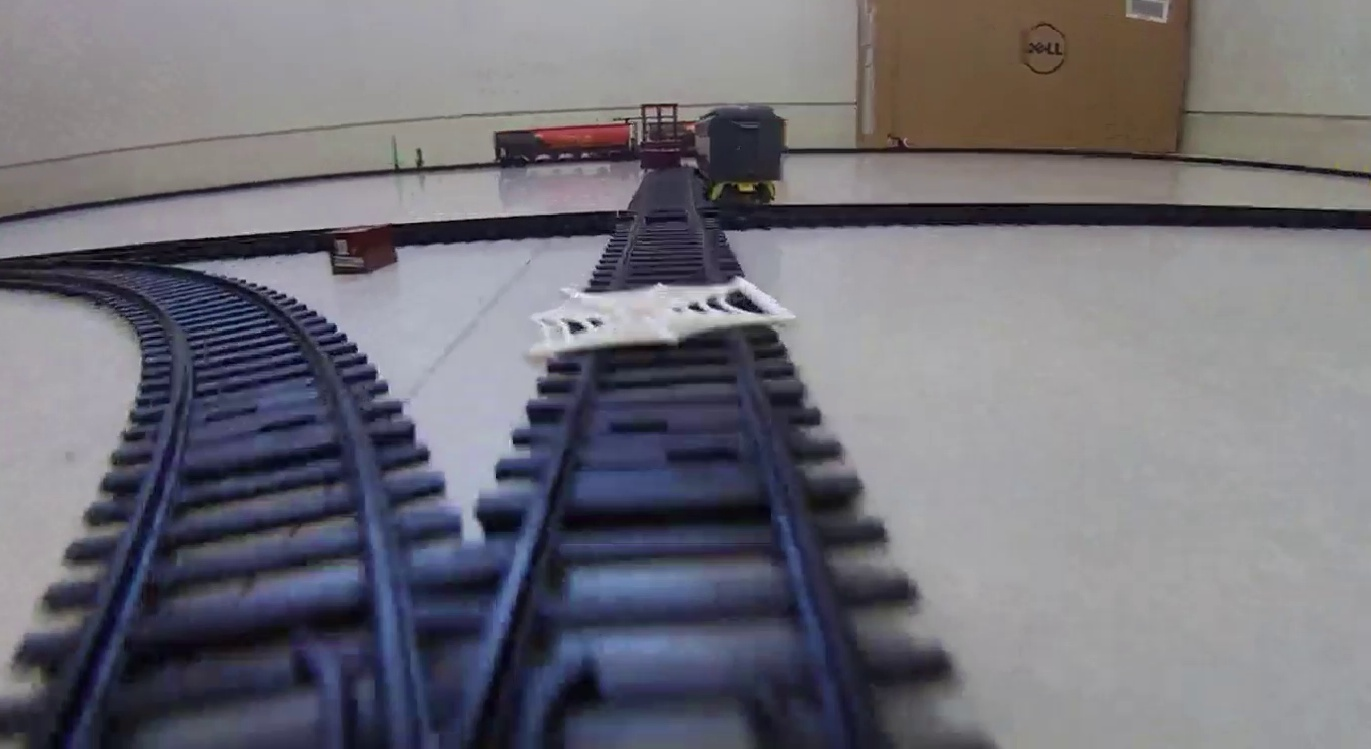box: (327, 226, 400, 275)
web: (530, 278, 799, 356)
